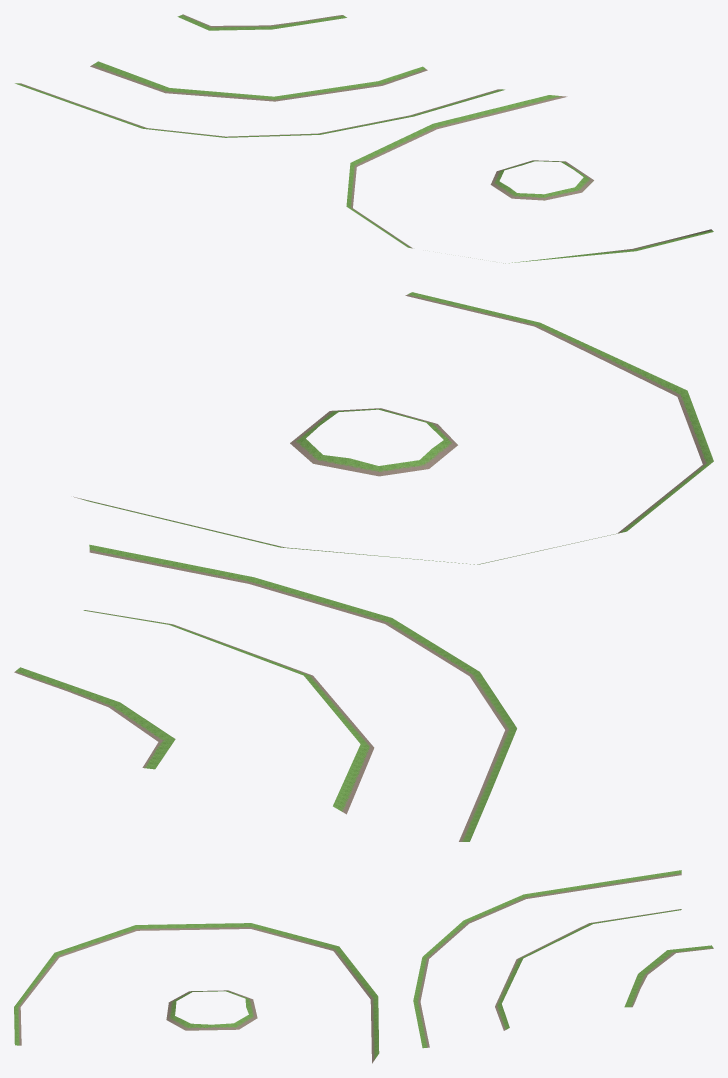
File: kd_stage_1363c5_8_5_bounded.glb
3 renders of one model, top to bottom at view 1: azimuth 30°, elevation 25°; view 2: azimuth 150°, elevation 25°; view 3: azimuth 270°, elevation 25°, orthographic. The views are drawn at different scales.
Parts seen in each view (by area): view 1: kd_stage_1363c5_8_5_bounded; view 2: kd_stage_1363c5_8_5_bounded; view 3: kd_stage_1363c5_8_5_bounded.
Part boxes in pixels (x1,y1,x2,y2): kd_stage_1363c5_8_5_bounded: (15,14,713,263); kd_stage_1363c5_8_5_bounded: (14,292,713,841); kd_stage_1363c5_8_5_bounded: (14,870,713,1063).
Bounding box in the file's own units: 45.67 × 1.49 × 68.99.
1 material, 1 textured.
